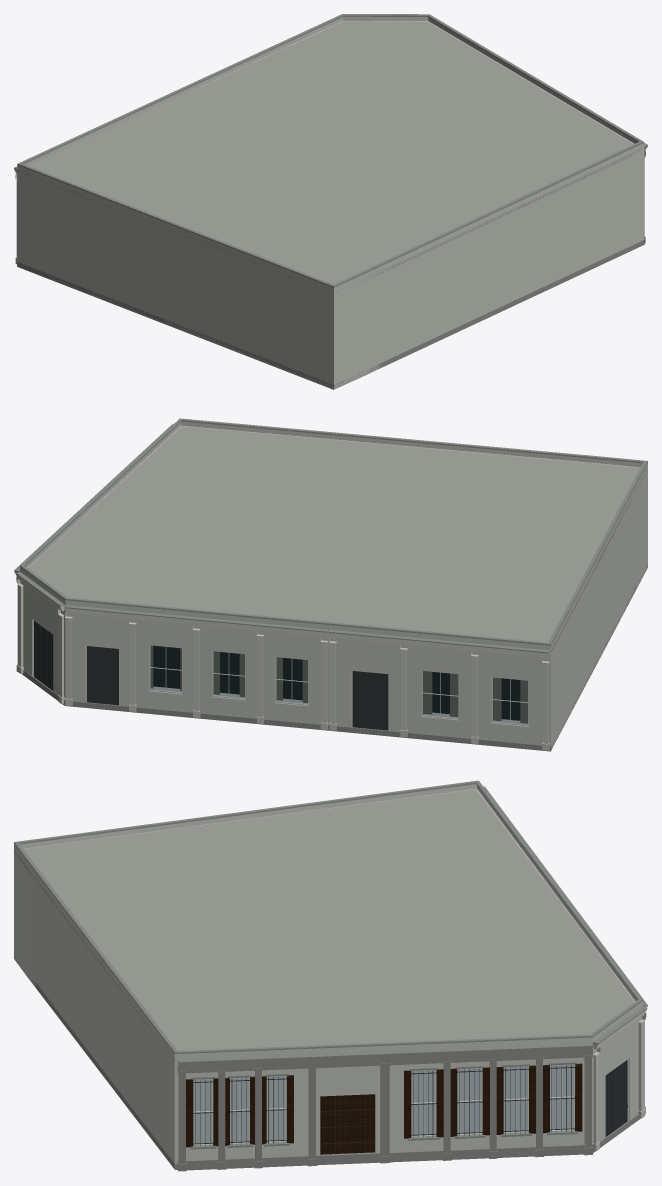
Rendered from building.glb.
The picture shows the model from 3 angles, top to bottom: view 1: azimuth 30°, elevation 25°; view 2: azimuth 150°, elevation 25°; view 3: azimuth 270°, elevation 25°; orthographic projection. The views are drawn at different scales.
Parts seen in each view (by area): view 1: roof/bank:0/roof_slab#0001, bank:0/edge0/z0/bank:0/edge0/z0/wall_0_0, bank:0/edge3/z0/bank:0/edge3/z0/wall_0_0, roof/bank:0/parapet#0001, roof/bank:0/parapet_cap#0002, bank:0/edge1/z0/bank:0/edge1/z0/wall_0_0, roof/bank:0/parapet_cap#0001, bank:0/edge0/z0/plinth#0001, bank:0/edge3/z0/plinth#0001, bank:0/edge2/z0/bank:0/edge2/z0/wall_0_0; view 2: roof/bank:0/roof_slab#0001, bank:0/edge0/z0/bank:0/edge0/z0/wall_0_0, roof/bank:0/parapet#0001, bank:0/edge7/z0/bank:0/edge7/z0/wall_0_0/clip12, bank:0/edge8/z0/bank:0/edge8/z0/wall_0_0/clip10, roof/bank:0/parapet_cap#0002, bank:0/edge7/z0/bank:0/edge7/z0/wall_0_0/clip2, bank:0/edge8/z0/bank:0/edge8/z0/wall_0_0/clip2, roof/bank:0/parapet_cap#0001, bank:0/edge6/z0/bank:0/edge6/z0/wall_0_0, bank:0/edge8/z0/opening_u1.08_v0.05/door_leaf#0001, bank:0/edge7/z0/opening_u1.00_v0.05/door_leaf#0001 (+40 smaller); view 3: roof/bank:0/roof_slab#0001, bank:0/edge3/z0/bank:0/edge3/z0/wall_0_0, bank:0/edge5/z0/bank:0/edge5/z0/wall_0_0, roof/bank:0/parapet#0001, roof/bank:0/parapet_cap#0002, bank:0/edge5/z0/proj_panel_19/facade_projection_panel#0001, bank:0/edge5/z0/proj_panel_20/facade_projection_panel#0001, bank:0/edge6/z0/bank:0/edge6/z0/wall_0_0, roof/bank:0/parapet_cap#0001, bank:0/edge5/z0/opening_u6.29_v0.04/door_leaf#0001, bank:0/edge5/z0/proj_cornice_21/cornice_drip#0001, bank:0/edge1/z0/bank:0/edge1/z0/wall_0_0 (+23 smaller).
Part boxes in pixels (x1,y1,x2,y2): roof/bank:0/roof_slab#0001: (17,21,640,294); bank:0/edge0/z0/bank:0/edge0/z0/wall_0_0: (17,169,333,389); bank:0/edge3/z0/bank:0/edge3/z0/wall_0_0: (376,147,644,369); roof/bank:0/parapet#0001: (17,16,644,292); roof/bank:0/parapet_cap#0002: (18,14,643,286); bank:0/edge1/z0/bank:0/edge1/z0/wall_0_0: (334,279,361,389); roof/bank:0/parapet_cap#0001: (17,15,644,287); bank:0/edge0/z0/plinth#0001: (17,262,333,389); bank:0/edge3/z0/plinth#0001: (376,240,644,369); bank:0/edge2/z0/bank:0/edge2/z0/wall_0_0: (362,273,376,376); roof/bank:0/roof_slab#0001: (28,426,647,652); bank:0/edge0/z0/bank:0/edge0/z0/wall_0_0: (551,467,647,749); roof/bank:0/parapet#0001: (20,421,647,650); bank:0/edge7/z0/bank:0/edge7/z0/wall_0_0/clip12: (65,605,329,661); bank:0/edge8/z0/bank:0/edge8/z0/wall_0_0/clip10: (329,629,550,681); roof/bank:0/parapet_cap#0002: (20,418,647,644); bank:0/edge7/z0/bank:0/edge7/z0/wall_0_0/clip2: (120,688,329,725); bank:0/edge8/z0/bank:0/edge8/z0/wall_0_0/clip2: (389,714,550,745); roof/bank:0/parapet_cap#0001: (20,420,647,645); bank:0/edge6/z0/bank:0/edge6/z0/wall_0_0: (20,581,65,700); bank:0/edge8/z0/opening_u1.08_v0.05/door_leaf#0001: (352,671,388,730); bank:0/edge7/z0/opening_u1.00_v0.05/door_leaf#0001: (87,646,118,705); roof/bank:0/roof_slab#0001: (14,789,634,1062); bank:0/edge3/z0/bank:0/edge3/z0/wall_0_0: (35,878,174,1163); bank:0/edge5/z0/bank:0/edge5/z0/wall_0_0: (177,1057,592,1160); roof/bank:0/parapet#0001: (14,784,642,1059); roof/bank:0/parapet_cap#0002: (14,780,641,1052); bank:0/edge5/z0/proj_panel_19/facade_projection_panel#0001: (177,1144,592,1170); bank:0/edge5/z0/proj_panel_20/facade_projection_panel#0001: (177,1049,592,1073); bank:0/edge6/z0/bank:0/edge6/z0/wall_0_0: (592,1017,641,1144); roof/bank:0/parapet_cap#0001: (14,783,642,1053); bank:0/edge5/z0/opening_u6.29_v0.04/door_leaf#0001: (320,1094,374,1154); bank:0/edge5/z0/proj_cornice_21/cornice_drip#0001: (178,1042,592,1063); bank:0/edge1/z0/bank:0/edge1/z0/wall_0_0: (14,849,27,977).
Bounding box in the file's own units: 28.91 × 5.72 × 28.08.
Materials: 10 (1 with a texture image).
